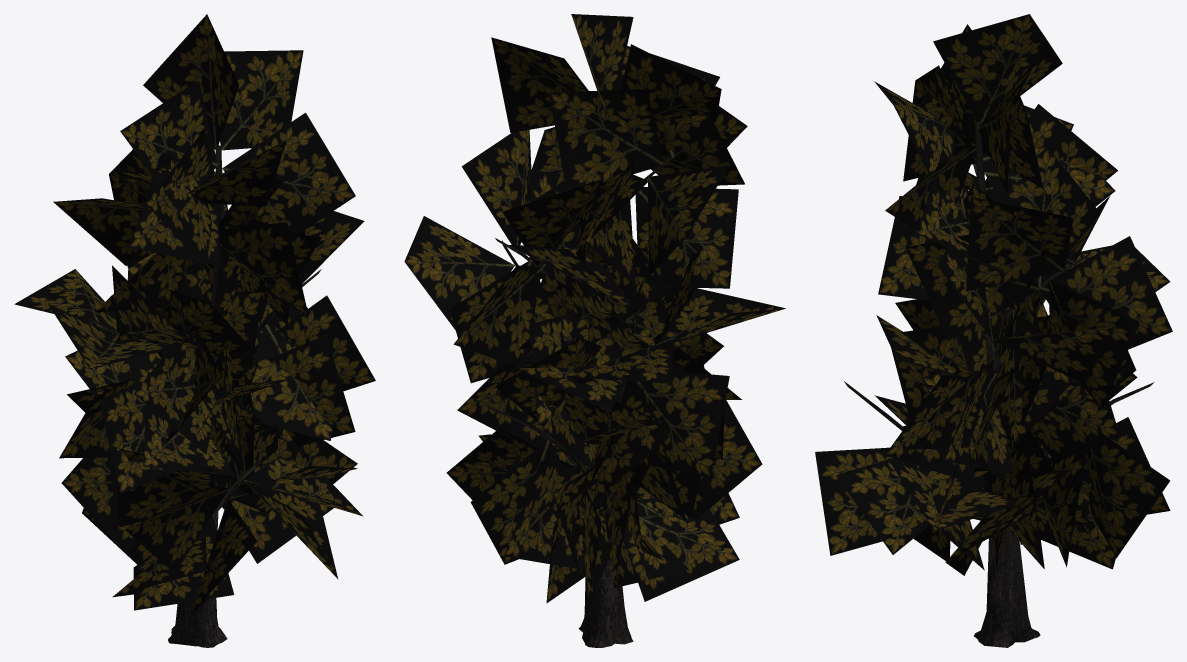
Rendered from tree_7.glb.
3 views of the same model, side by side, from view 1: azimuth 30°, elevation 25°; view 2: azimuth 150°, elevation 25°; view 3: azimuth 270°, elevation 25° (orthographic). The views are drawn at different scales.
Parts seen in each view (by area): view 1: tree_7_leaves, tree_7; view 2: tree_7_leaves, tree_7; view 3: tree_7_leaves, tree_7.
Boxes of the visible parts, box(x1,y1,x2,y2) form: tree_7_leaves: box(14, 14, 375, 613); tree_7: box(86, 145, 321, 647); tree_7_leaves: box(404, 14, 785, 603); tree_7: box(486, 143, 691, 647); tree_7_leaves: box(815, 14, 1172, 575); tree_7: box(844, 122, 1154, 647).
Size of the model in its own units: 4.48 by 8.29 by 4.25.
Materials: 2 (2 with a texture image).
